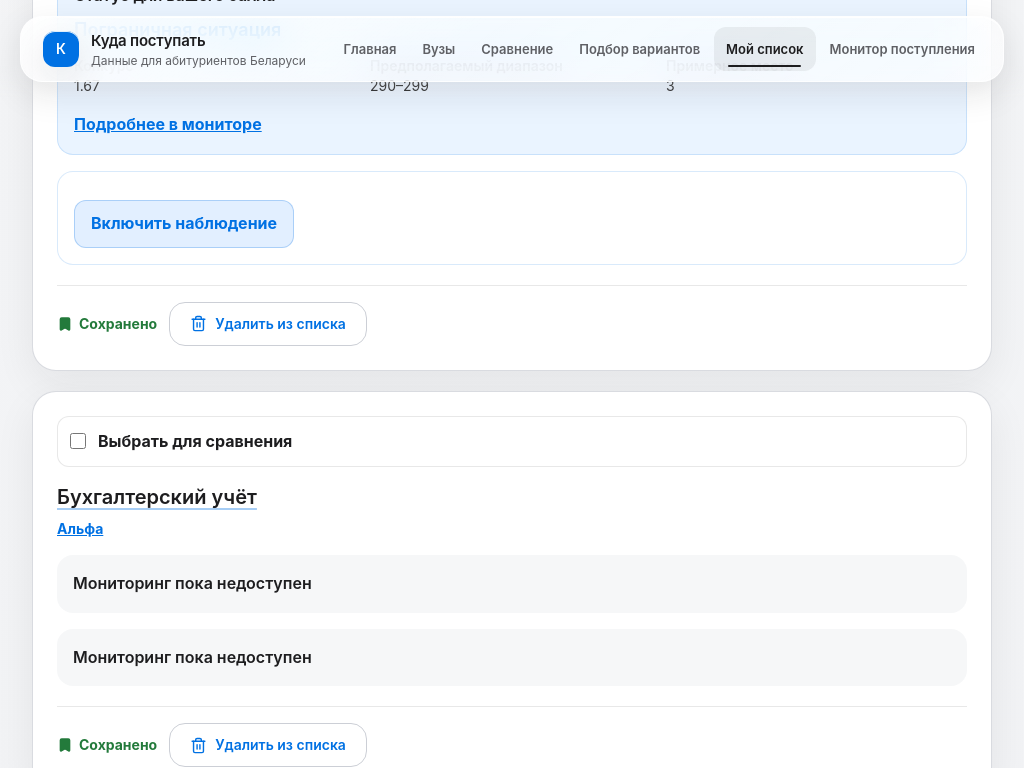
/my-list behavior and truthful monitoring › selects two saved Programs in user order and opens the canonical read-only comparison
The width and height of the screenshot is (1024, 768).
(page scrolled)
Click the checkbox labelled "Выбрать для сравнения" at [78, 441], box x1=70 y1=433 x2=86 y2=449
(page scrolled)
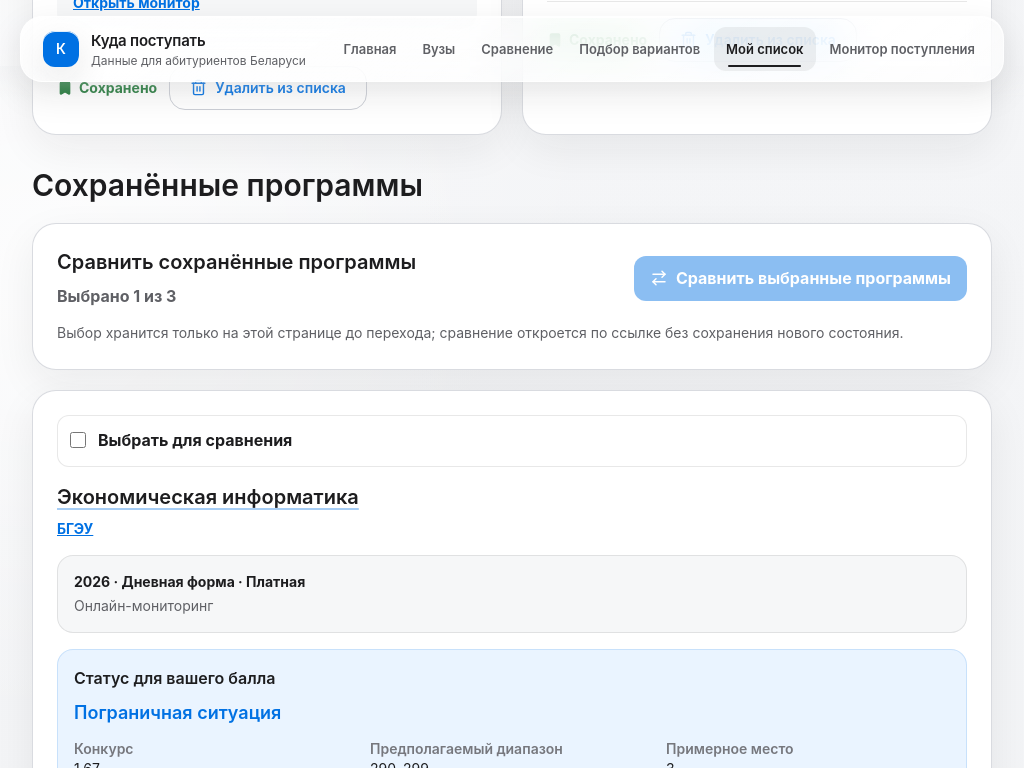
Expected: the button "Сравнить выбранные программы" is disabled, x1=634 y1=256 x2=967 y2=301
Expected: the text "Выбрано 1 из 3" is shown, x1=57 y1=286 x2=176 y2=306
Click the checkbox labelled "Выбрать для сравнения" at [78, 440], box x1=70 y1=432 x2=86 y2=448
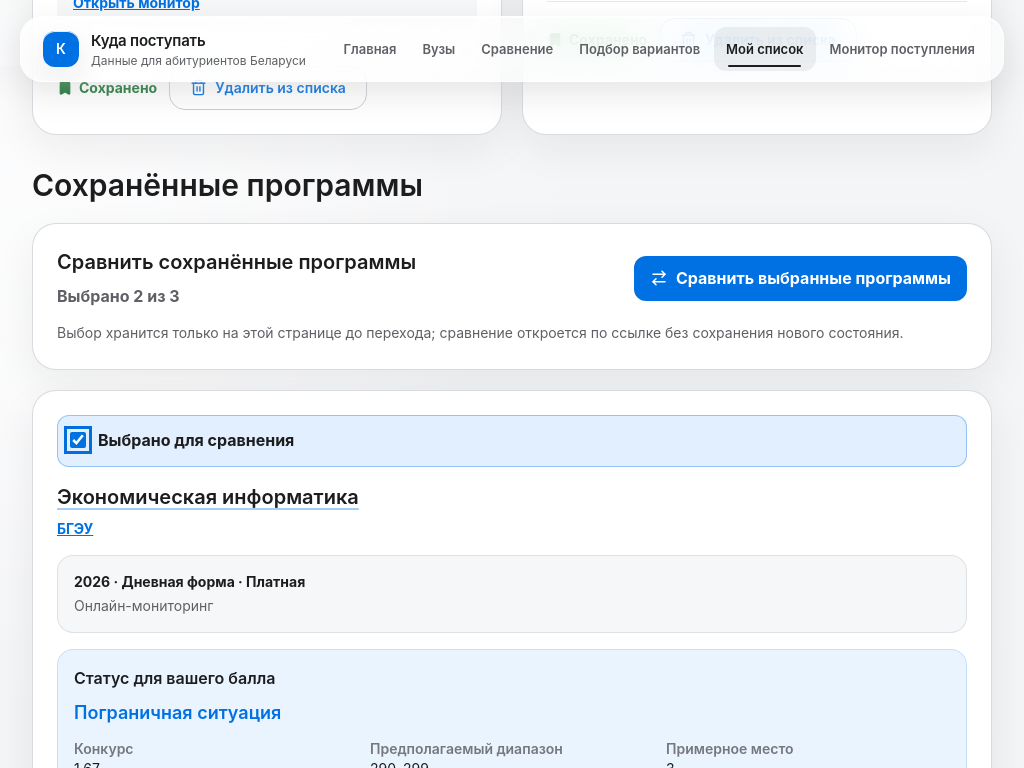
Expected: the button "Сравнить выбранные программы" is enabled
Expected: the text "Выбрано 2 из 3" is shown, x1=57 y1=286 x2=180 y2=306
Click the button "Сравнить выбранные программы" at [800, 278], box x1=634 y1=256 x2=967 y2=301
(page scrolled)
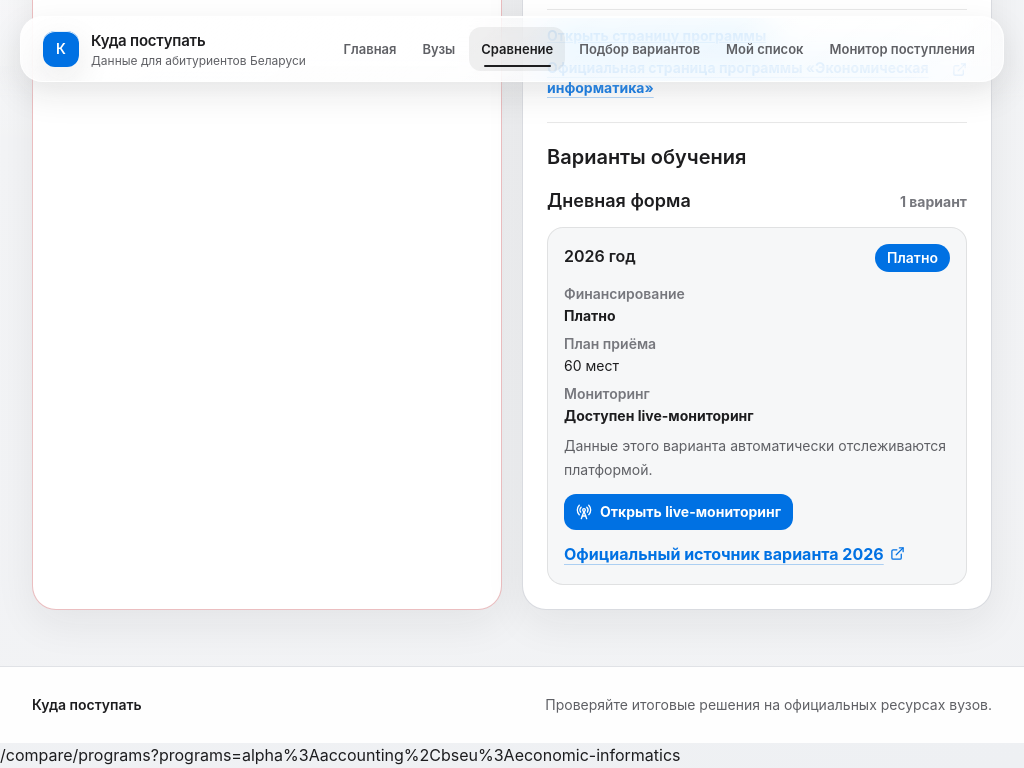
Expected: the text named "Текущий тестовый маршрут" reads "/compare/programs?programs=alpha%3Aaccounting%2Cbseu%3Aeconomic-informatics", x1=0 y1=745 x2=680 y2=765
